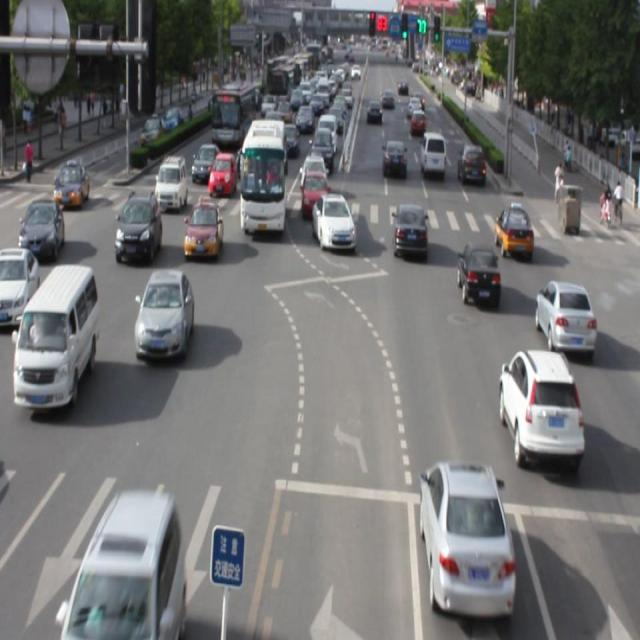car: (68, 493, 186, 640), (421, 457, 514, 613), (499, 348, 581, 460), (132, 268, 193, 358), (534, 280, 595, 351), (114, 191, 162, 261), (457, 241, 499, 305), (311, 196, 355, 253), (184, 199, 222, 258), (495, 202, 531, 255), (392, 204, 427, 258)
truck: (14, 263, 99, 409)
van: (240, 117, 286, 233)
